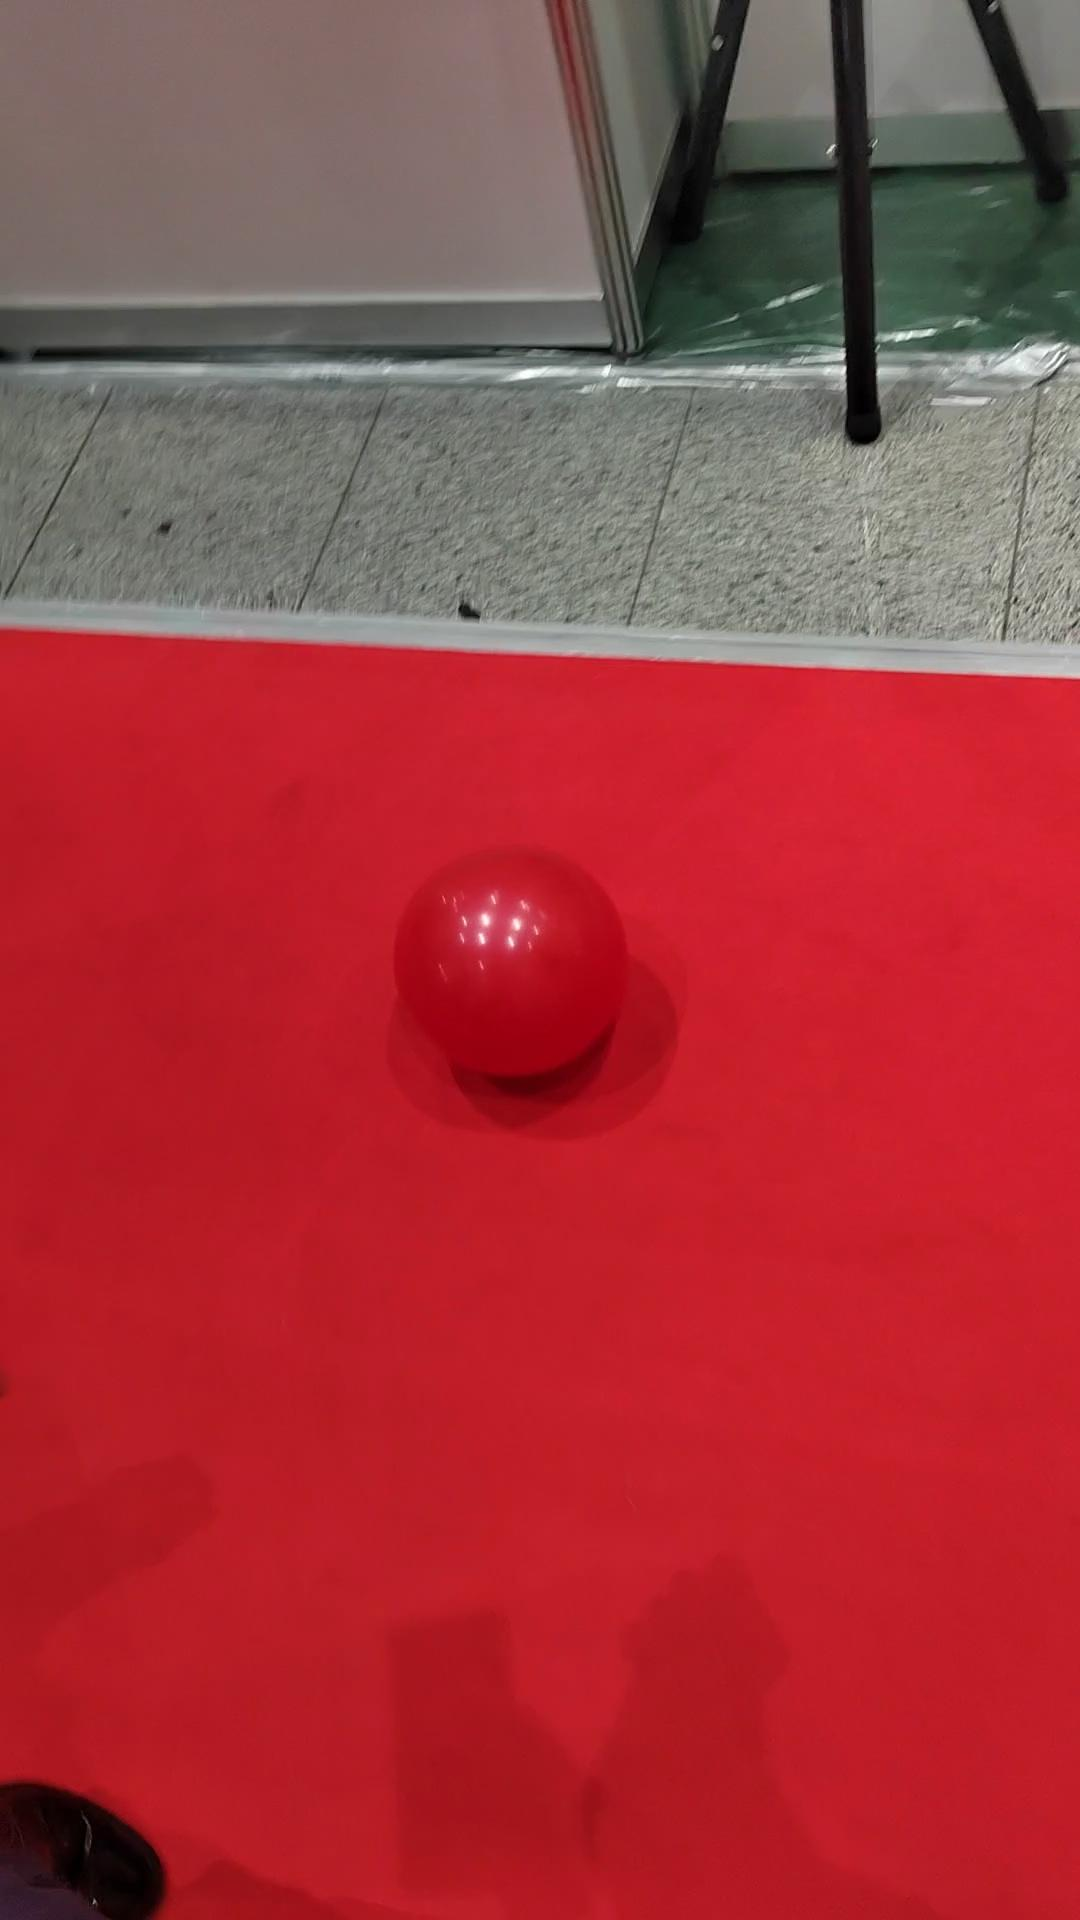red: (393, 849, 625, 1077)
